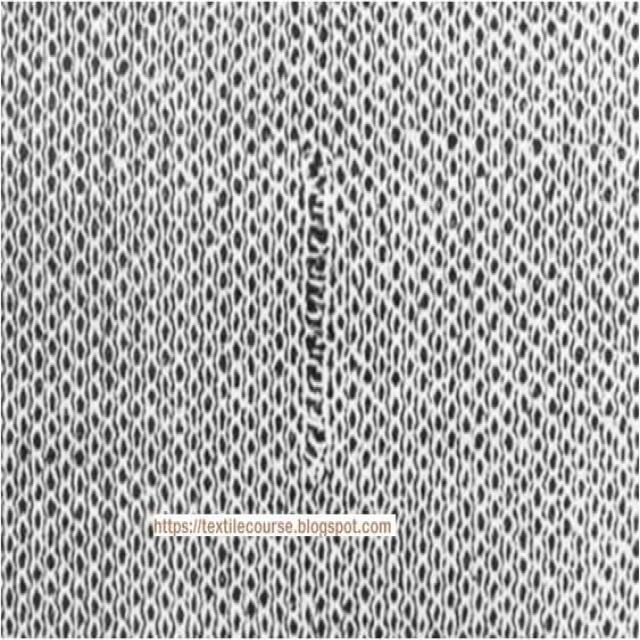stains: (233, 108, 375, 482)
